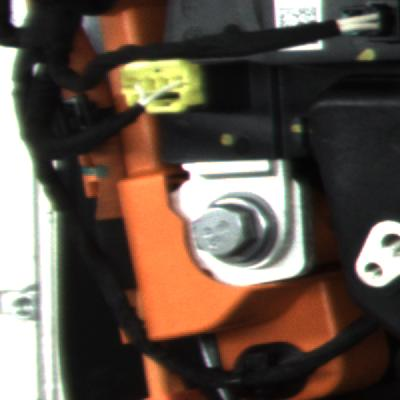nut_b: (183, 179, 290, 275)
